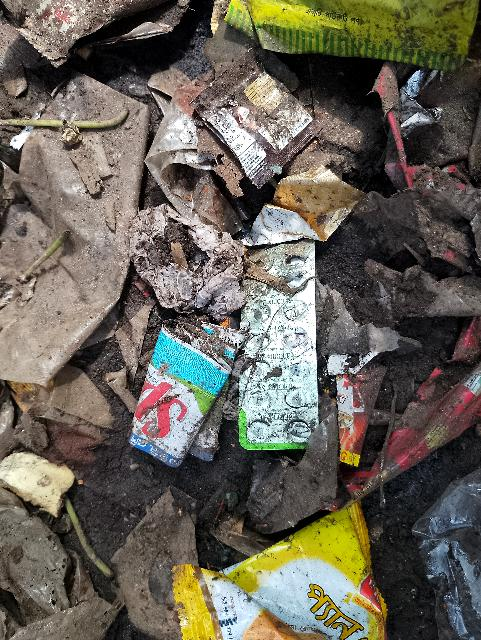medicine: (237, 243, 324, 454)
